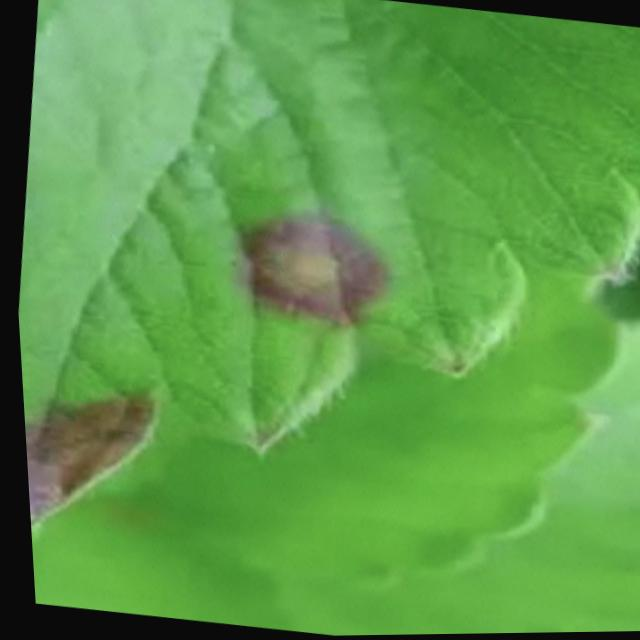Leaf Spot: (14, 0, 640, 538)
